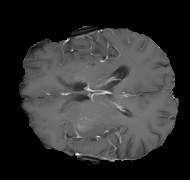Edema: (54, 105, 126, 154)
EnhancingTumors: (58, 107, 116, 141)
Necrosis: (64, 111, 114, 142)
